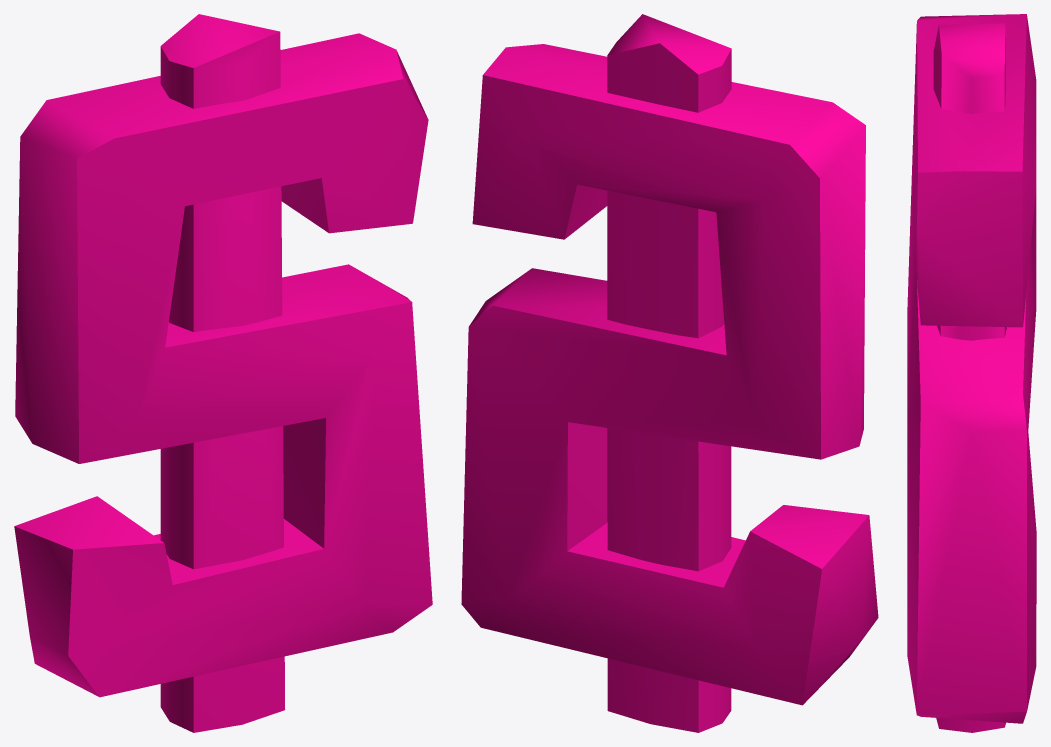
File: 05 money.FBX
3 renders of one model, left to right at view 1: azimuth 30°, elevation 25°; view 2: azimuth 150°, elevation 25°; view 3: azimuth 270°, elevation 25°, orthographic.
Parts seen in each view (by area): view 1: SM_Icon_Letter_Money_01; view 2: SM_Icon_Letter_Money_01; view 3: SM_Icon_Letter_Money_01.
Boxes of the visible parts, <box> form: SM_Icon_Letter_Money_01: <box>14,14,432,732</box>; SM_Icon_Letter_Money_01: <box>461,14,878,732</box>; SM_Icon_Letter_Money_01: <box>907,14,1036,732</box>.
Bounding box in the file's own units: 38.06 × 66.09 × 11.36.
